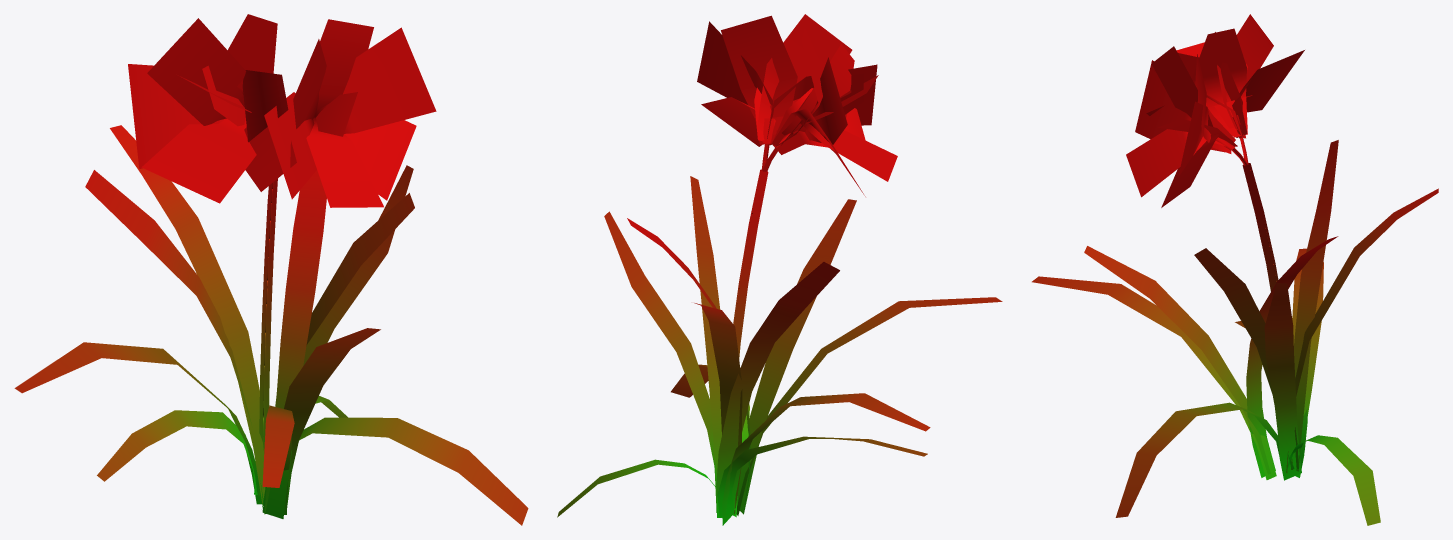
Rendered from Var3_LOD2.fbx.
3 views of the same model, side by side, from view 1: azimuth 30°, elevation 25°; view 2: azimuth 150°, elevation 25°; view 3: azimuth 270°, elevation 25° (orthographic). The views are drawn at different scales.
Parts seen in each view (by area): view 1: _a26a_Var3_LOD2; view 2: _a26a_Var3_LOD2; view 3: _a26a_Var3_LOD2.
Part boxes in pixels (bbox=[...]): _a26a_Var3_LOD2: bbox=[14, 14, 528, 525]; _a26a_Var3_LOD2: bbox=[557, 14, 1002, 525]; _a26a_Var3_LOD2: bbox=[1032, 14, 1438, 525].
Bounding box in the file's own units: 68.17 × 86.26 × 73.99.
